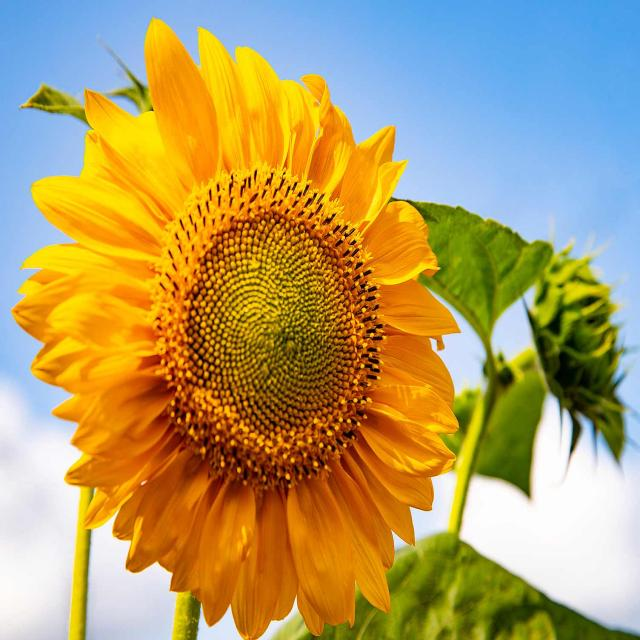sunflower: (19, 16, 472, 634)
